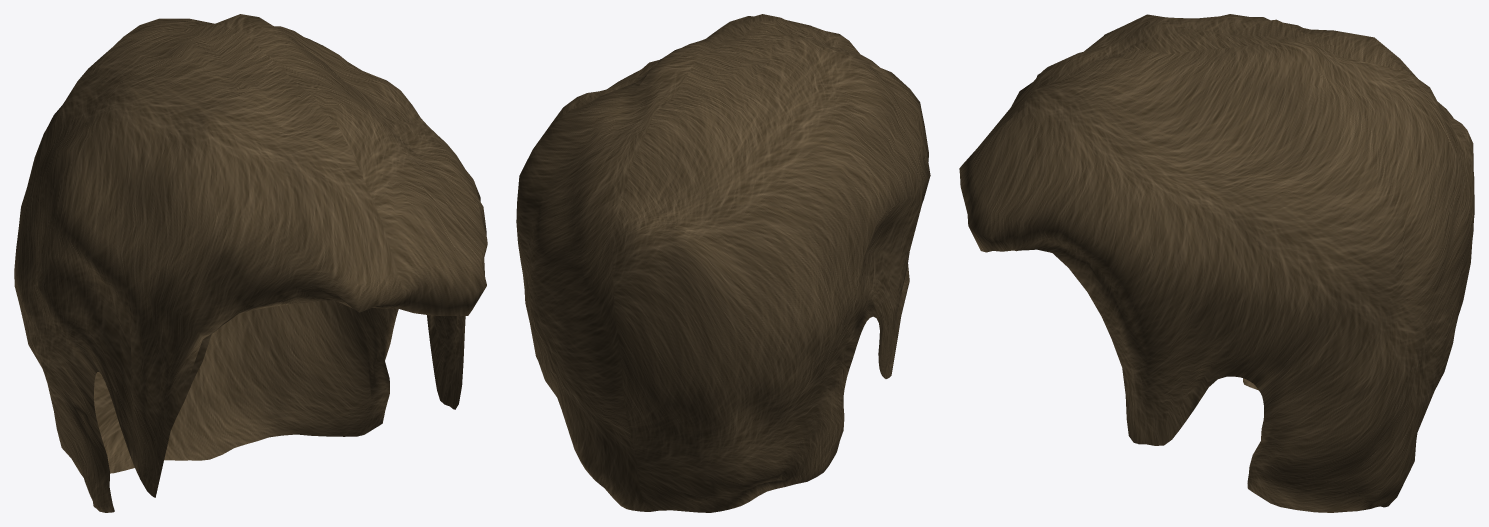
Rendered from MaleHair1.fbx.
3 renders of one model, left to right at view 1: azimuth 30°, elevation 25°; view 2: azimuth 150°, elevation 25°; view 3: azimuth 270°, elevation 25°, orthographic. The views are drawn at different scales.
Parts seen in each view (by area): view 1: short02Mesh; view 2: short02Mesh; view 3: short02Mesh.
Part boxes in pixels (bbox=[...]): short02Mesh: bbox=[14, 14, 487, 512]; short02Mesh: bbox=[516, 14, 930, 512]; short02Mesh: bbox=[959, 14, 1474, 512].
Bounding box in the file's own units: 1.75 × 2.11 × 2.17.
